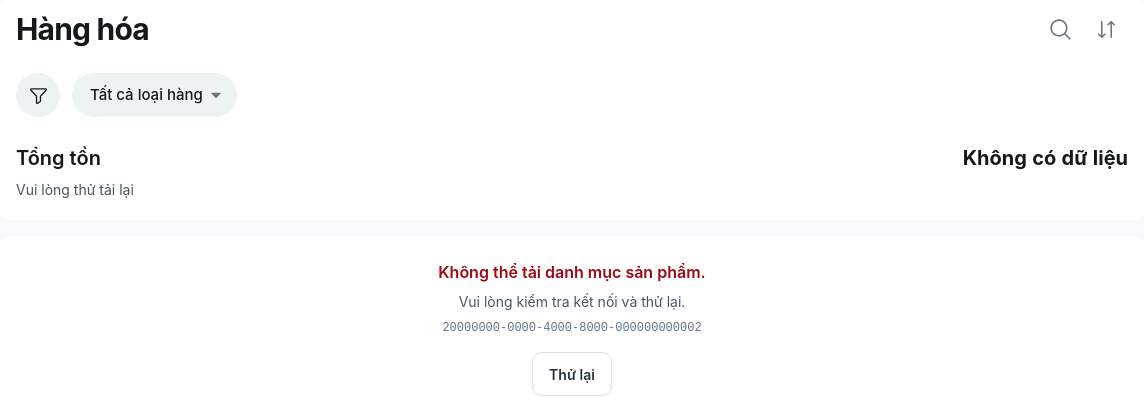
Scenario: ProductListPage › shows safe Vietnamese error copy, correlation ID and retries
The width and height of the screenshot is (1144, 413).
Expected: the text "Không thể tải danh mục sản phẩm." is shown, [438,262,706,282]
Expected: the text "20000000-0000-4000-8000-000000000002" is shown, [442,321,702,335]
Click the button "Thử lại".
click(572, 374)  # box [532,352,612,396]
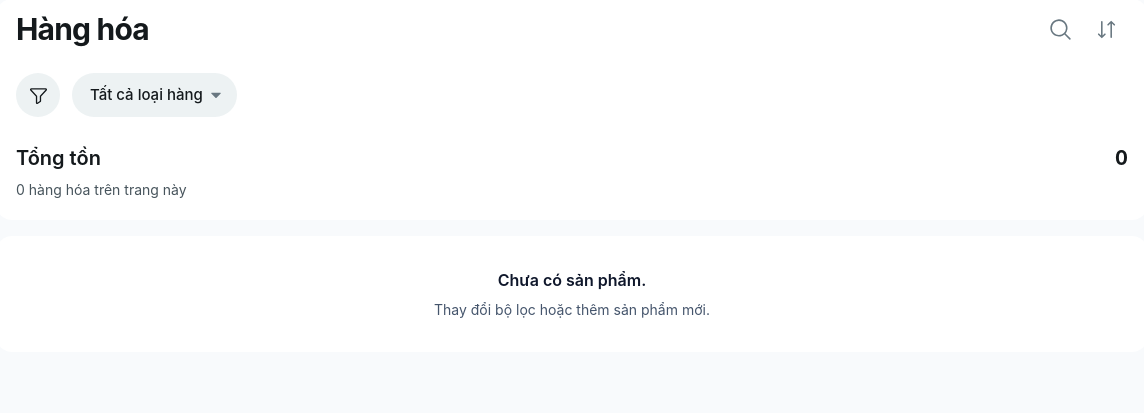
Expected: the text "Chưa có sản phẩm." is shown, [498,270,646,290]
